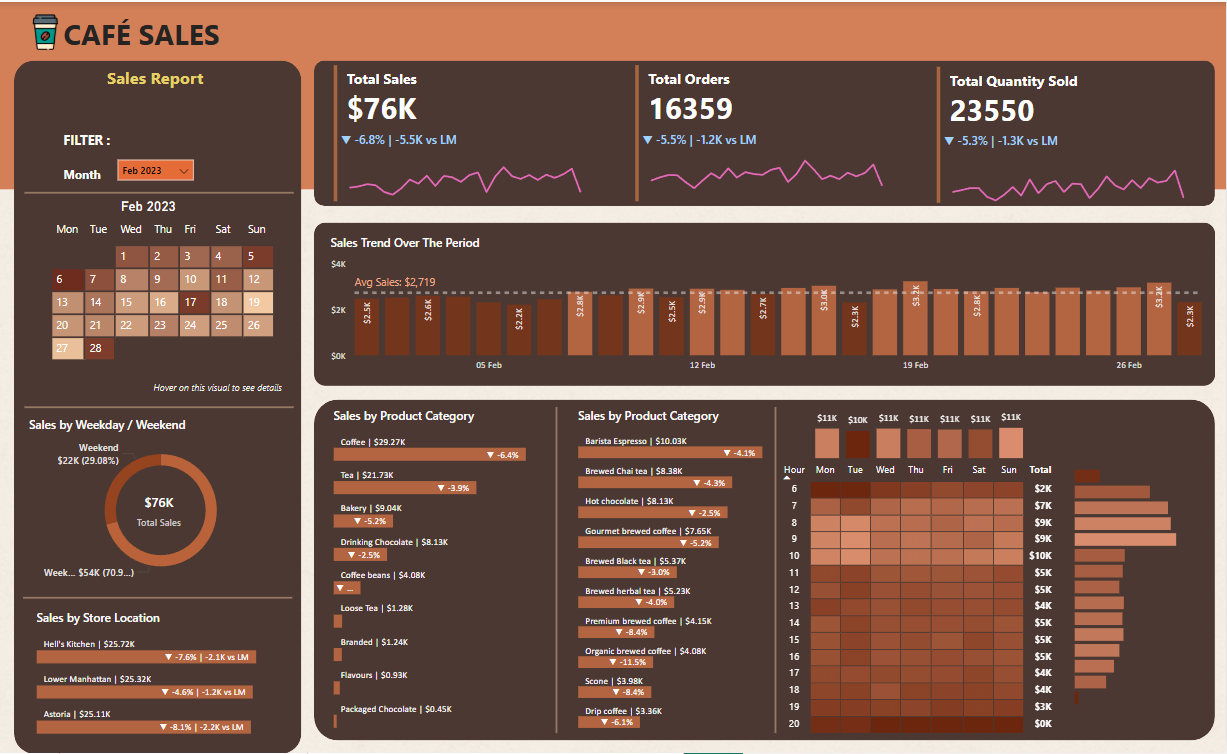

This screenshot's page, from the dashboard's own definition file:
{"tool":"powerbi","page":{"name":"Page 1","canvas":[1400,850],"ordinal":0},"visuals":[{"type":"shape","box":[10.5,0,1389.4,212.2],"z":0},{"type":"cardVisual","fields":{"Data":["Transactions.Total Sales"]},"box":[383.6,65.9,300.6,164.8],"z":0,"group":"g1"},{"type":"cardVisual","fields":{"Data":["Transactions.Total Orders"]},"box":[725,65.9,300.6,164.8],"z":0,"group":"g2"},{"type":"cardVisual","fields":{"Data":["Transactions.Total Quantity Sold"]},"box":[1066.5,67.2,300.6,164.8],"z":0,"group":"g3"},{"type":"shape","box":[27.7,65.9,325.6,784.4],"z":1000},{"type":"lineChart","fields":{"Category":["Date Table.Date.Variation.Date Hierarchy.Year","Date Table.Date.Variation.Date Hierarchy.Quarter","Date Table.Date.Variation.Date Hierarchy.Month","Date Table.Date.Variation.Date Hierarchy.Day"],"Y":["Transactions.Total Sales"]},"box":[392.8,146.3,291.3,84.4],"z":1000,"group":"g1"},{"type":"lineChart","fields":{"Category":["Date Table.Date.Variation.Date Hierarchy.Year","Date Table.Date.Variation.Date Hierarchy.Quarter","Date Table.Date.Variation.Date Hierarchy.Month","Date Table.Date.Variation.Date Hierarchy.Day"],"Y":["Transactions.Total Orders"]},"box":[734.2,146.3,291.3,84.4],"z":1000,"group":"g2"},{"type":"lineChart","fields":{"Category":["Date Table.Date.Variation.Date Hierarchy.Year","Date Table.Date.Variation.Date Hierarchy.Quarter","Date Table.Date.Variation.Date Hierarchy.Month","Date Table.Date.Variation.Date Hierarchy.Day"],"Y":["Transactions.Total Quantity Sold"]},"box":[1075.7,147.6,291.3,84.4],"z":1000,"group":"g3"},{"type":"shape","box":[366.5,65.9,1020.3,164.8],"z":2000},{"type":"textbox","box":[77.8,7.9,201.7,58],"z":3000},{"type":"slicer","fields":{"Values":["Date Table.Month Year"]},"box":[138.4,174,96.2,38.2],"z":4000},{"type":"group","id":"g1","title":"Group 1","box":[383.6,65.9,300.6,164.8],"z":5000},{"type":"group","id":"g2","title":"Group 1","box":[725,65.9,300.6,164.8],"z":6000},{"type":"group","id":"g3","title":"Group 1","box":[1066.5,67.2,300.6,164.8],"z":7000},{"type":"pivotTable","fields":{"Rows":["Date Table.Week Number"],"Columns":["Date Table.Day Name"],"Values":["Min(Date Table.Day Number)"]},"box":[38.2,241.2,304.5,217.5],"z":8000},{"type":"card","fields":{"Values":["Min(Date Table.Month Year)"]},"box":[138.4,216.2,80.4,33],"z":9000},{"type":"card","fields":{"Values":["Transactions.Foot Note"]},"box":[160.8,424.5,192.5,25],"z":10000},{"type":"shape","box":[38.2,436.3,304.5,44.8],"z":11000},{"type":"shape","box":[38.2,193.8,304.5,44.8],"z":12000},{"type":"donutChart","title":" Sales by Weekday / Weekend","fields":{"Category":["Date Table.Weekday / Weekend"],"Y":["Transactions.Total Sales"]},"box":[38.2,468,308.5,195.1],"z":13000},{"type":"card","fields":{"Values":["Transactions.Total Sales"]},"box":[147.6,544.4,87,60.6],"z":14000},{"type":"shape","box":[36.9,652.5,304.5,44.8],"z":15000},{"type":"shape","box":[366.5,449.5,1020.3,386.2],"z":16000},{"type":"clusteredBarChart","title":"Sales by Store Location","fields":{"Category":["Transactions.store_location"],"Y":["Transactions.Placeholder","Transactions.Total Sales"]},"box":[47.5,688.1,284.7,147.6],"z":17000},{"type":"shape","box":[366.5,249.1,1020.3,185],"z":18000},{"type":"columnChart","title":"Sales Trend Over The Period","fields":{"Category":["Transactions.transaction_date"],"Y":["Transactions.Total Sales"]},"box":[379.7,262.3,997.9,163.5],"z":19000},{"type":"clusteredBarChart","title":"Sales by Product Category","fields":{"Y":["Transactions.Placeholder","Transactions.Total Sales"],"Category":["Transactions.product_category"]},"box":[383.6,458.7,250.5,369.1],"z":20000},{"type":"shape","box":[634.1,458.7,15.8,369.1],"z":21000},{"type":"clusteredBarChart","title":"Sales by Product Category","fields":{"Y":["Transactions.Placeholder","Transactions.Total Sales"],"Category":["Transactions.product_type"]},"box":[660.4,458.7,250.5,369.1],"z":22000},{"type":"shape","box":[880.6,458.7,15.8,369.1],"z":23000},{"type":"pivotTable","fields":{"Rows":["Transactions.Hour"],"Columns":["Date Table.Day Name"],"Values":["Transactions.Total Sales"]},"box":[888.5,516.8,352,319],"z":24000},{"type":"barChart","fields":{"Category":["Transactions.Hour"],"Y":["Transactions.Total Sales"]},"box":[1222,516.8,129.2,283.4],"z":25000},{"type":"columnChart","title":"Sales by Days | Hours","fields":{"Y":["Transactions.Total Sales"],"Category":["Date Table.Day Name"]},"box":[928,449.5,246.5,72.5],"z":26000},{"type":"textbox","box":[77.8,179.3,69.9,33],"z":27000},{"type":"textbox","box":[127.9,67.2,160.8,63.3],"z":28000},{"type":"textbox","box":[77.8,141.1,118.6,33],"z":28001},{"type":"image","box":[36.9,4,50.1,62],"z":28002}]}

Visuals, with their boxes in screenshot pixels (x1, y1, x2, y2), scaled from the page's 1400x850 canvas onto the 1227x754 screenshot:
shape: crop(9, 0, 1226, 188)
cardVisual - Transactions.Total Sales: crop(336, 58, 600, 205)
cardVisual - Transactions.Total Orders: crop(635, 58, 899, 205)
cardVisual - Transactions.Total Quantity Sold: crop(935, 60, 1198, 206)
shape: crop(24, 58, 310, 753)
lineChart - Date Table.Date.Variation.Date Hierarchy.Year x Date Table.Date.Variation.Date Hierarchy.Quarter: crop(344, 130, 600, 205)
lineChart - Date Table.Date.Variation.Date Hierarchy.Year x Date Table.Date.Variation.Date Hierarchy.Quarter: crop(643, 130, 899, 205)
lineChart - Date Table.Date.Variation.Date Hierarchy.Year x Date Table.Date.Variation.Date Hierarchy.Quarter: crop(943, 131, 1198, 206)
shape: crop(321, 58, 1215, 205)
textbox: crop(68, 7, 245, 58)
slicer - Date Table.Month Year: crop(121, 154, 206, 188)
"Group 1" group: crop(336, 58, 600, 205)
"Group 1" group: crop(635, 58, 899, 205)
"Group 1" group: crop(935, 60, 1198, 206)
pivotTable - Date Table.Week Number x Date Table.Day Name: crop(33, 214, 300, 407)
card - Min(Date Table.Month Year): crop(121, 192, 192, 221)
card - Transactions.Foot Note: crop(141, 377, 310, 399)
shape: crop(33, 387, 300, 427)
shape: crop(33, 172, 300, 212)
" Sales by Weekday / Weekend" donutChart: crop(33, 415, 304, 588)
card - Transactions.Total Sales: crop(129, 483, 206, 537)
shape: crop(32, 579, 299, 619)
shape: crop(321, 399, 1215, 741)
"Sales by Store Location" clusteredBarChart: crop(42, 610, 291, 741)
shape: crop(321, 221, 1215, 385)
"Sales Trend Over The Period" columnChart: crop(333, 233, 1207, 378)
"Sales by Product Category" clusteredBarChart: crop(336, 407, 556, 734)
shape: crop(556, 407, 570, 734)
"Sales by Product Category" clusteredBarChart: crop(579, 407, 798, 734)
shape: crop(772, 407, 786, 734)
pivotTable - Transactions.Hour x Date Table.Day Name: crop(779, 458, 1087, 741)
barChart - Transactions.Hour x Transactions.Total Sales: crop(1071, 458, 1184, 710)
"Sales by Days | Hours" columnChart: crop(813, 399, 1029, 463)
textbox: crop(68, 159, 129, 188)
textbox: crop(112, 60, 253, 116)
textbox: crop(68, 125, 172, 154)
image: crop(32, 4, 76, 59)
